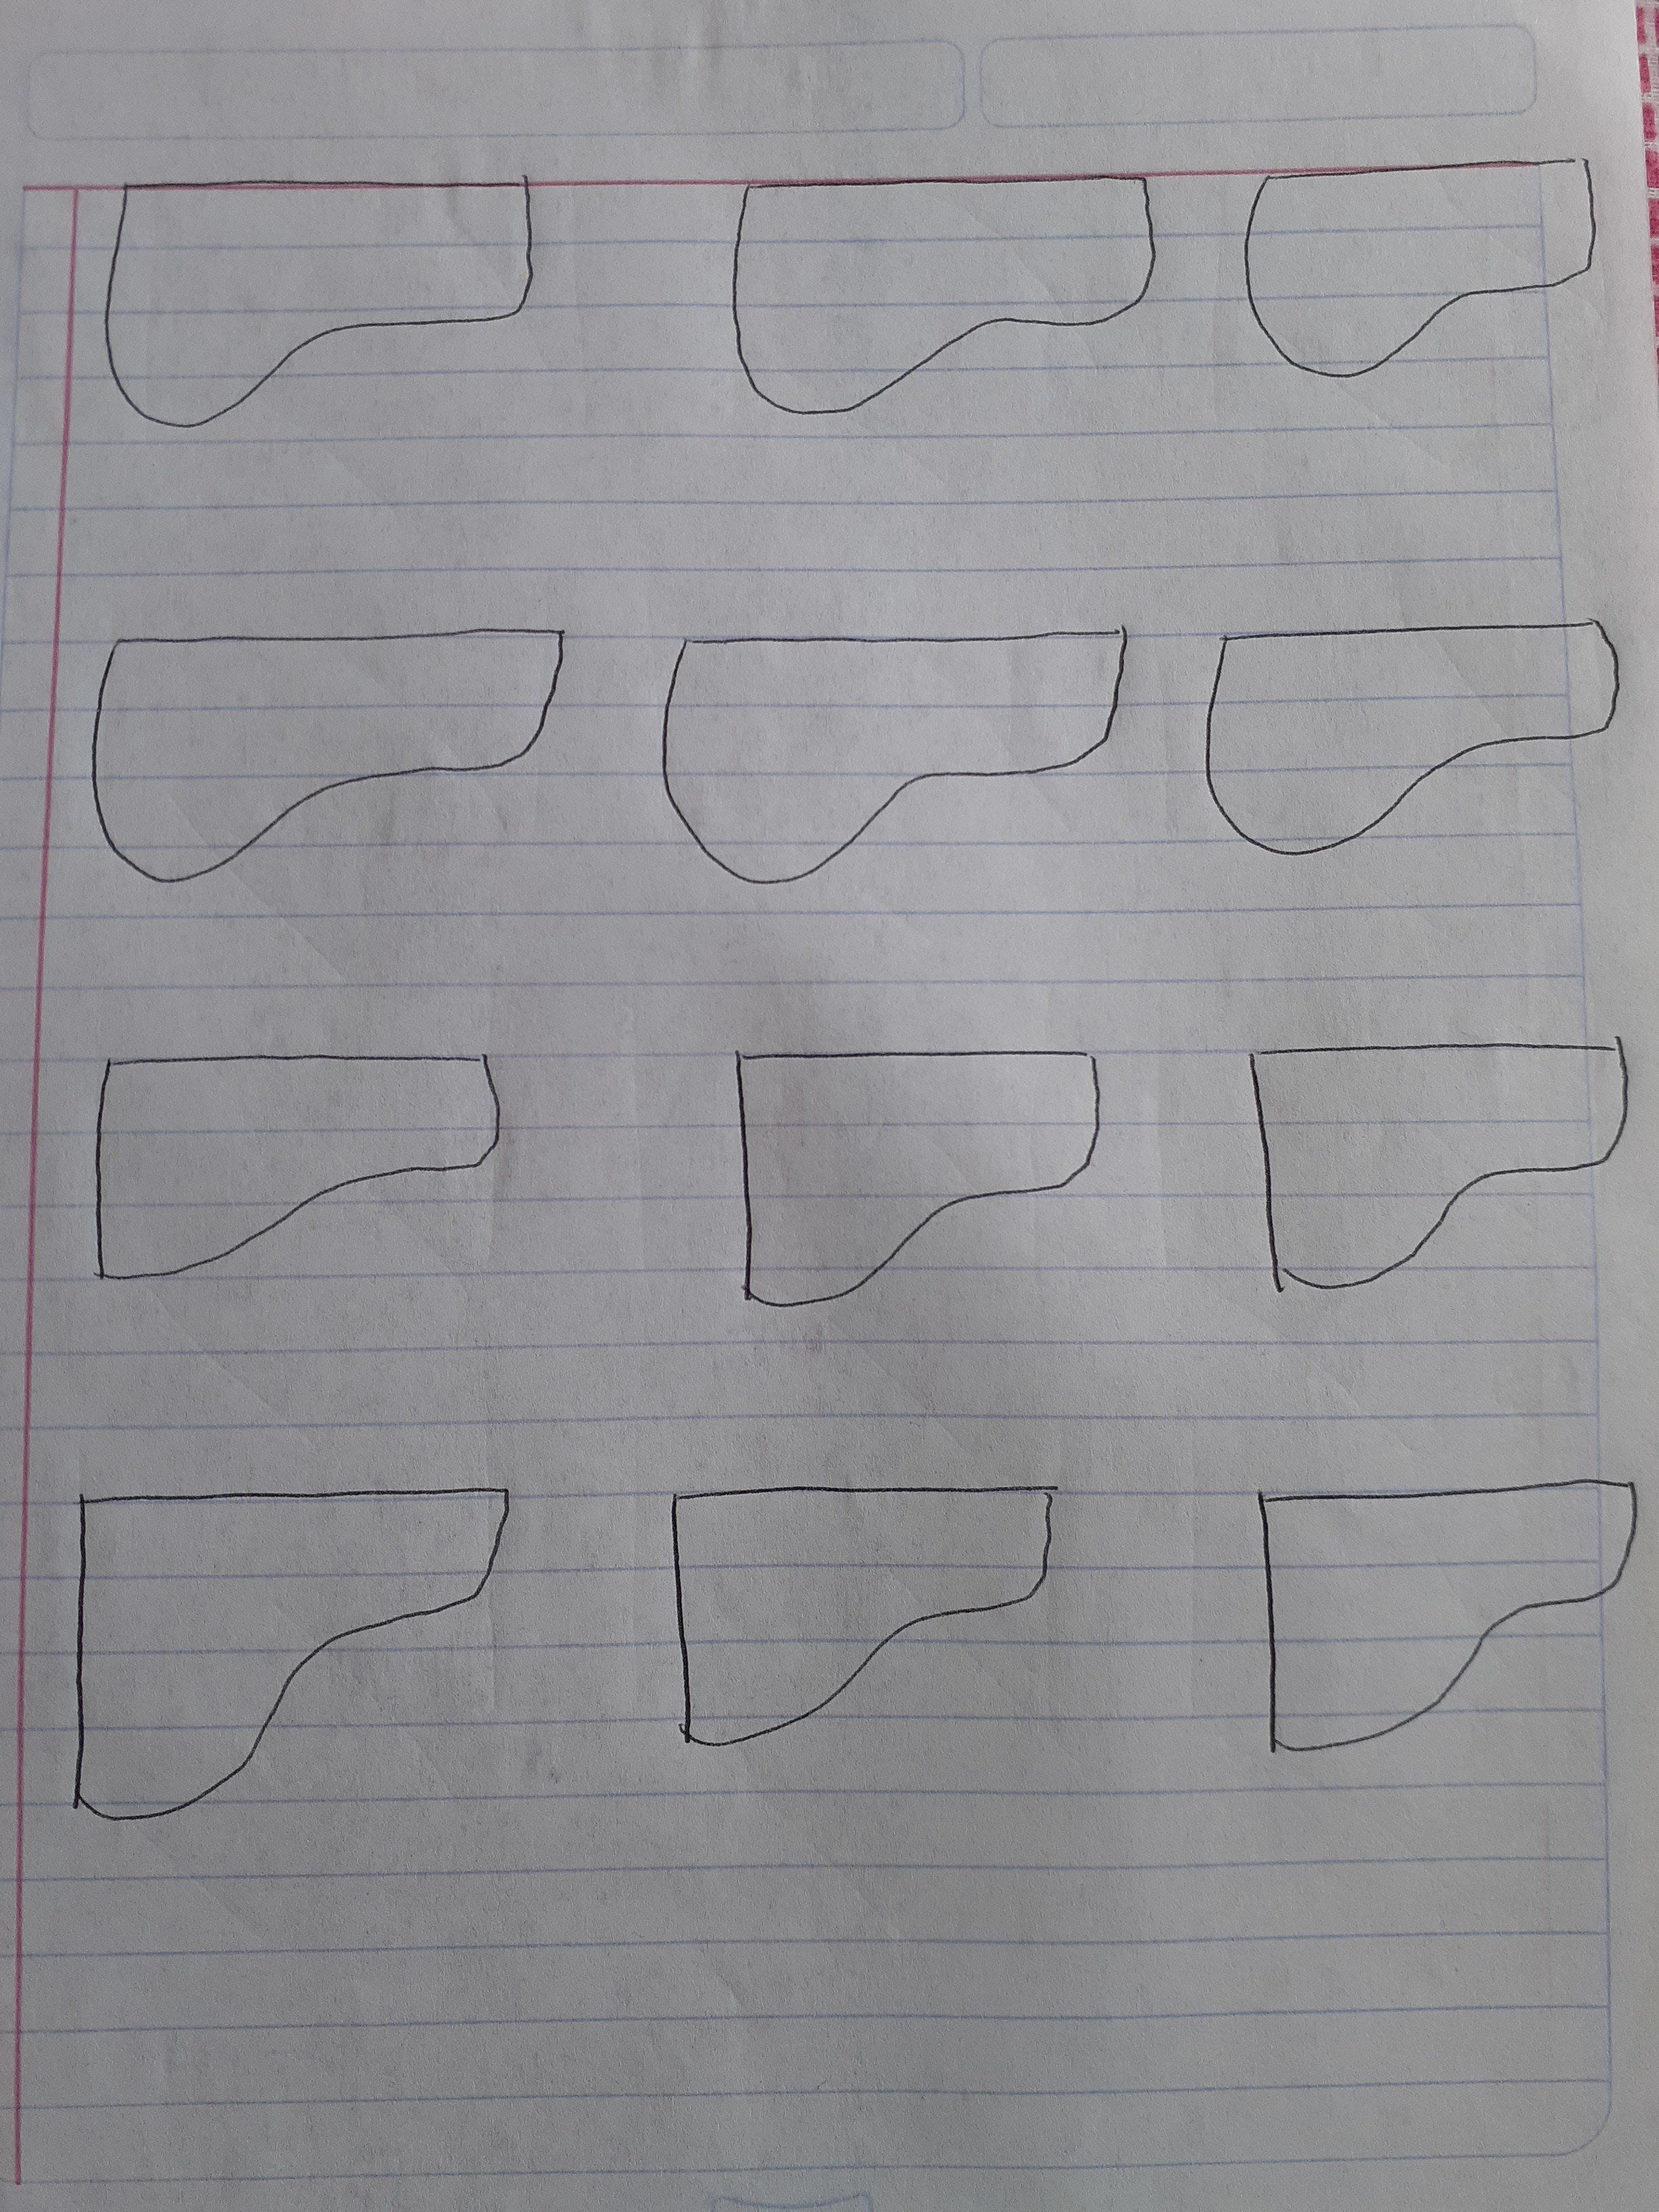print: (52, 1454, 540, 1848), (61, 587, 584, 895), (648, 604, 1140, 913), (1211, 1012, 1643, 1339), (634, 1458, 1094, 1759), (64, 1014, 533, 1306), (706, 138, 1176, 428), (96, 153, 577, 435), (678, 1024, 1115, 1329), (1220, 1461, 1647, 1766), (1187, 587, 1642, 873), (1213, 124, 1621, 411)
